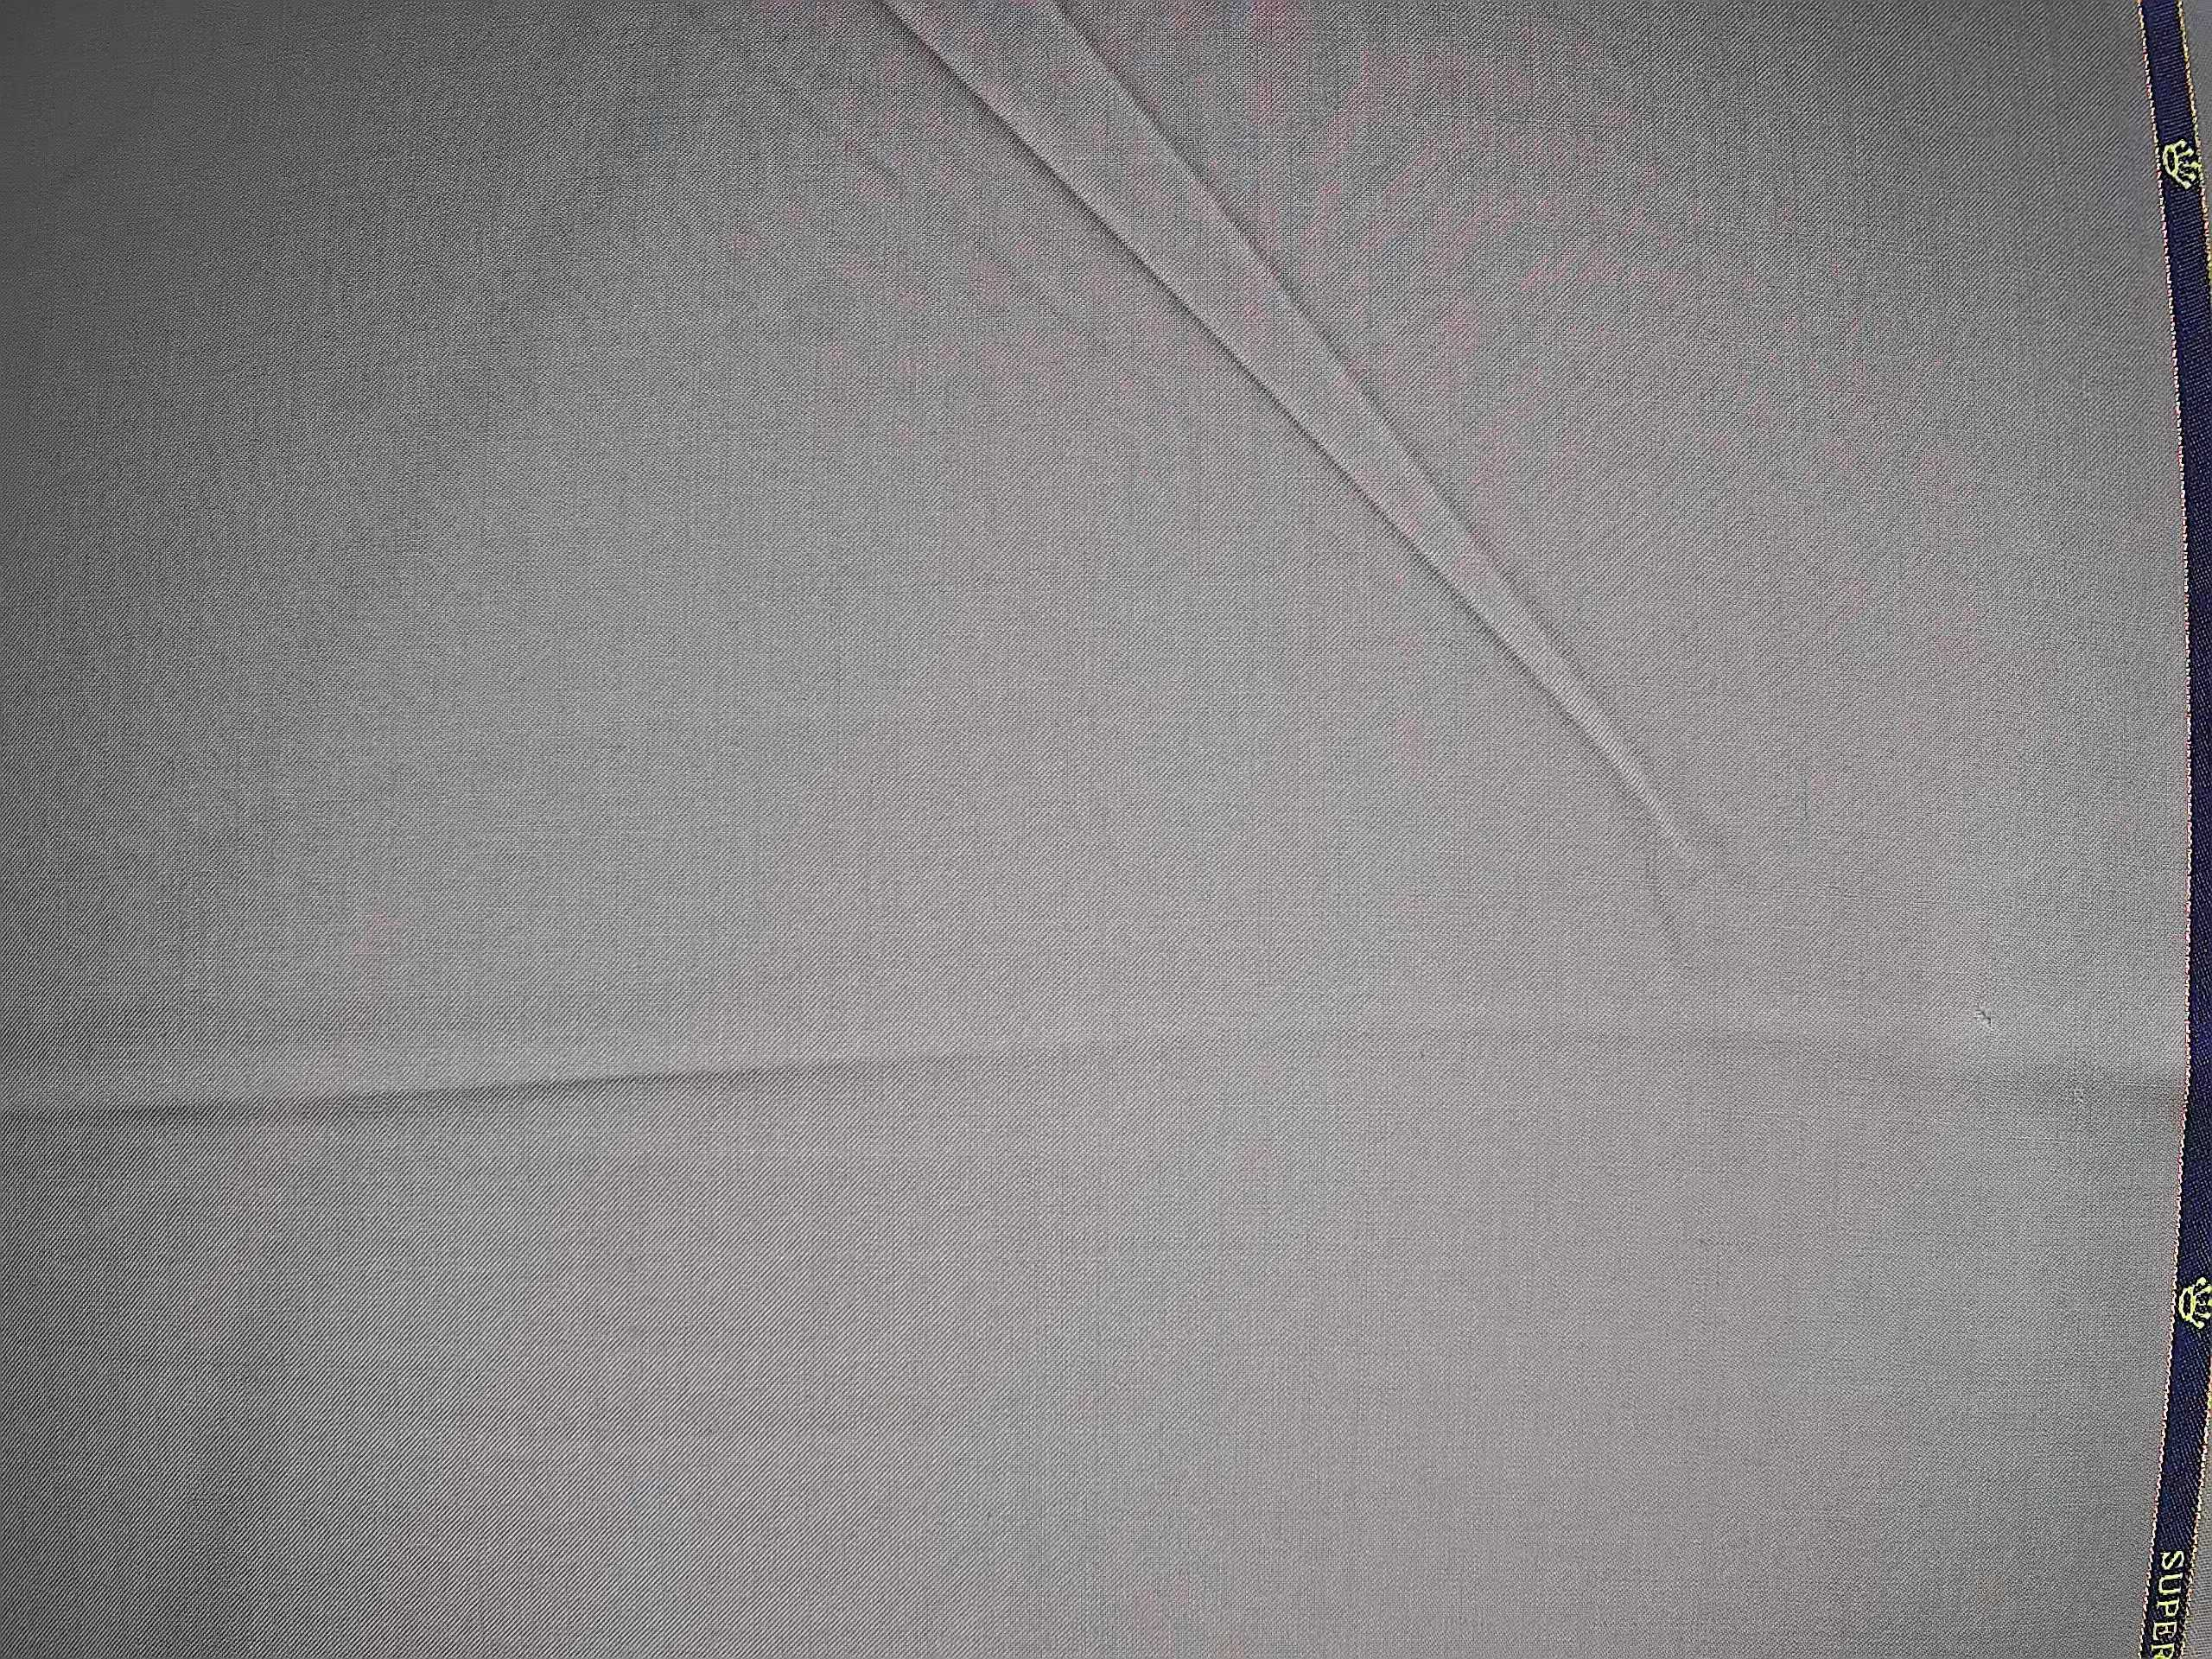rubbing-hole: (1963, 993, 2005, 1037), (2062, 1075, 2095, 1114)
